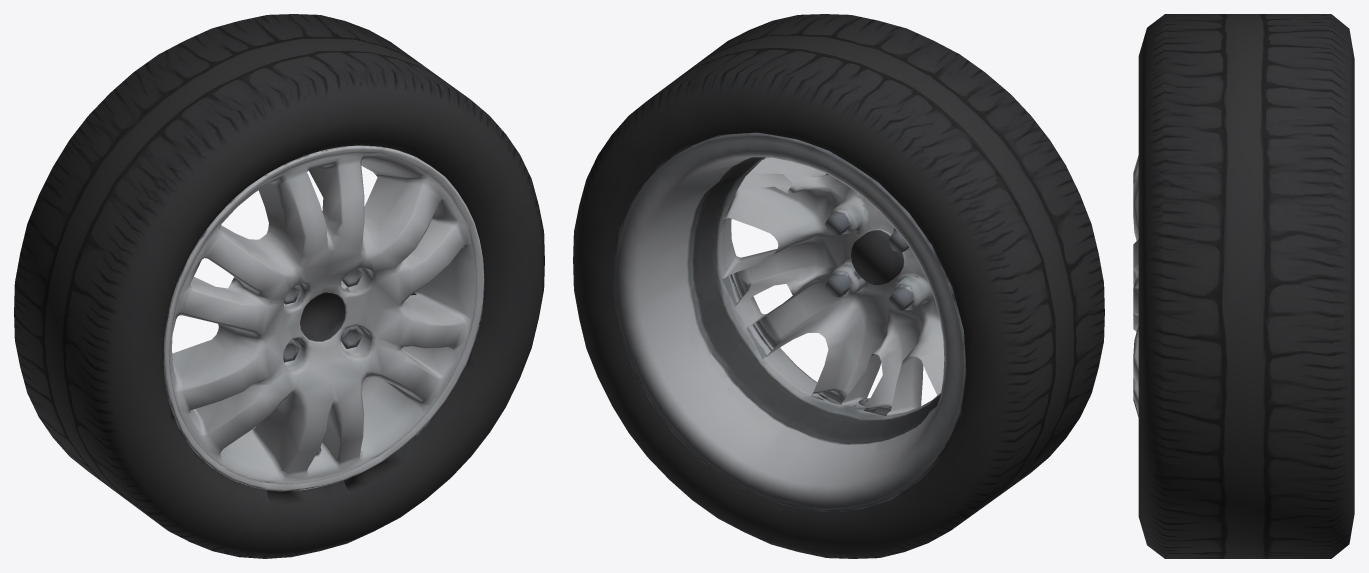
Rendered from original_glb.glb.
3 views of the same model, side by side, from view 1: azimuth 30°, elevation 25°; view 2: azimuth 150°, elevation 25°; view 3: azimuth 270°, elevation 25° (orthographic). The views are drawn at different scales.
Parts seen in each view (by area): view 1: wheel; view 2: wheel; view 3: wheel.
Boxes of the visible parts, <box> form: wheel: <box>14,14,544,558</box>; wheel: <box>573,14,1104,558</box>; wheel: <box>1133,14,1354,558</box>.
Size of the model in its own units: 0.998 by 0.998 by 0.4082.
1 material, 1 textured.
